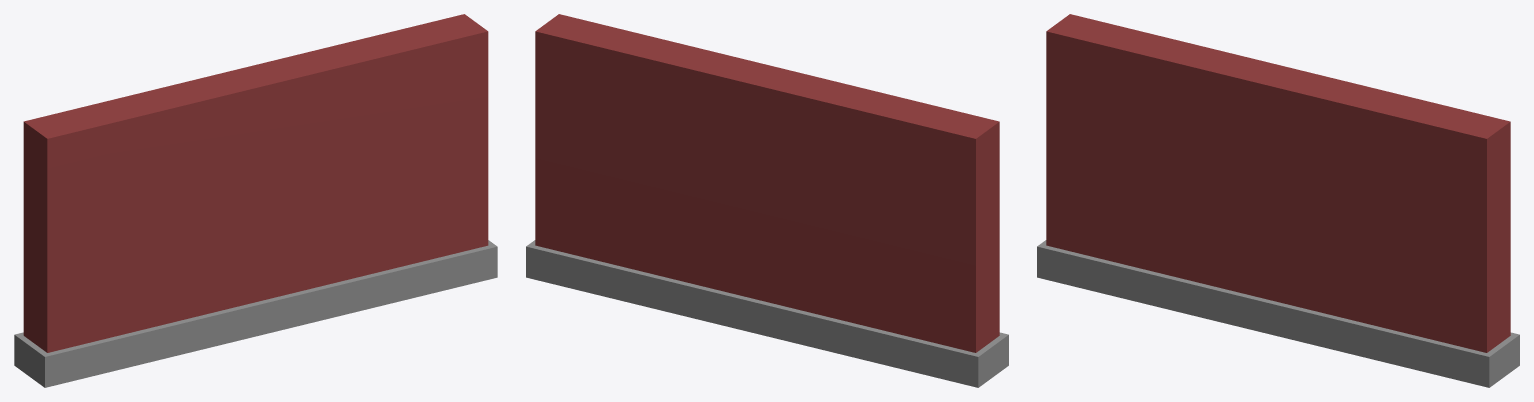
Rendered from qiang05.FBX.
The picture shows the model from 3 angles, left to right: view 1: azimuth 30°, elevation 25°; view 2: azimuth 150°, elevation 25°; view 3: azimuth 330°, elevation 25°; orthographic projection.
Visible parts, largest first — view 1: 05; view 2: 05; view 3: 05.
Part boxes in pixels (x1,y1,x2,y2): 05: (14,14,497,387); 05: (526,14,1008,387); 05: (1037,14,1519,387).
Bounding box in the file's own units: 625 × 324 × 73.29.
